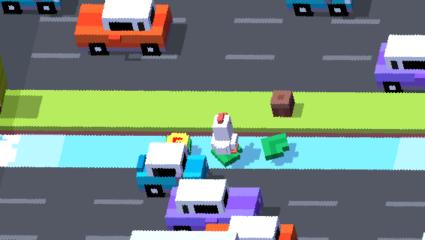hen: (208, 112, 239, 156)
obstacle: (165, 179, 262, 236), (77, 0, 173, 56), (134, 141, 210, 195), (374, 34, 425, 91), (208, 218, 300, 240), (286, 0, 360, 20), (0, 0, 63, 17), (129, 231, 237, 240), (269, 90, 295, 119)
timber: (209, 140, 244, 167), (261, 133, 290, 160), (166, 135, 195, 154)
